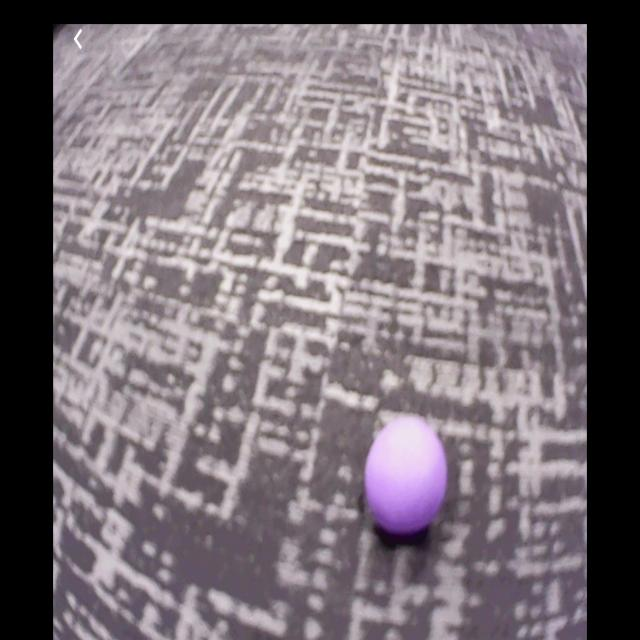ball: (364, 415, 446, 532)
